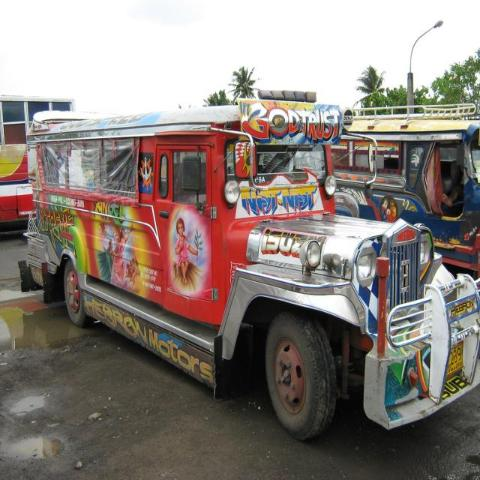jeepney: (17, 92, 480, 441), (350, 93, 480, 269)
